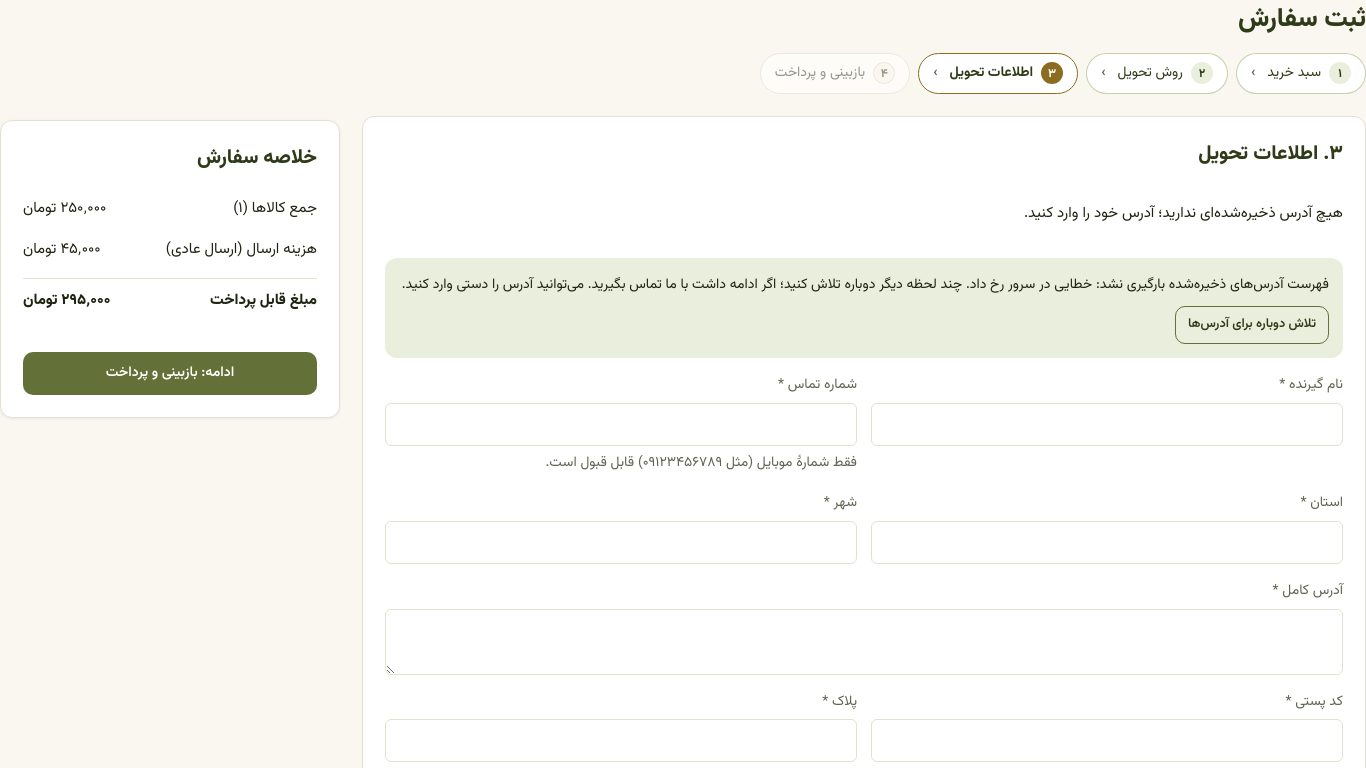
Test case: Place-order button & flow validation (Task 2) › address list failure offers a retry
Check: the heading "۳. اطلاعات تحویل" is shown, box [1198,138,1343,170]
What coordinates should you click on to do the following:
click the button "تلاش دوباره برای آدرس‌ها"
I would click on:
 (1252, 325)
Its box is [1175,306,1329,344].
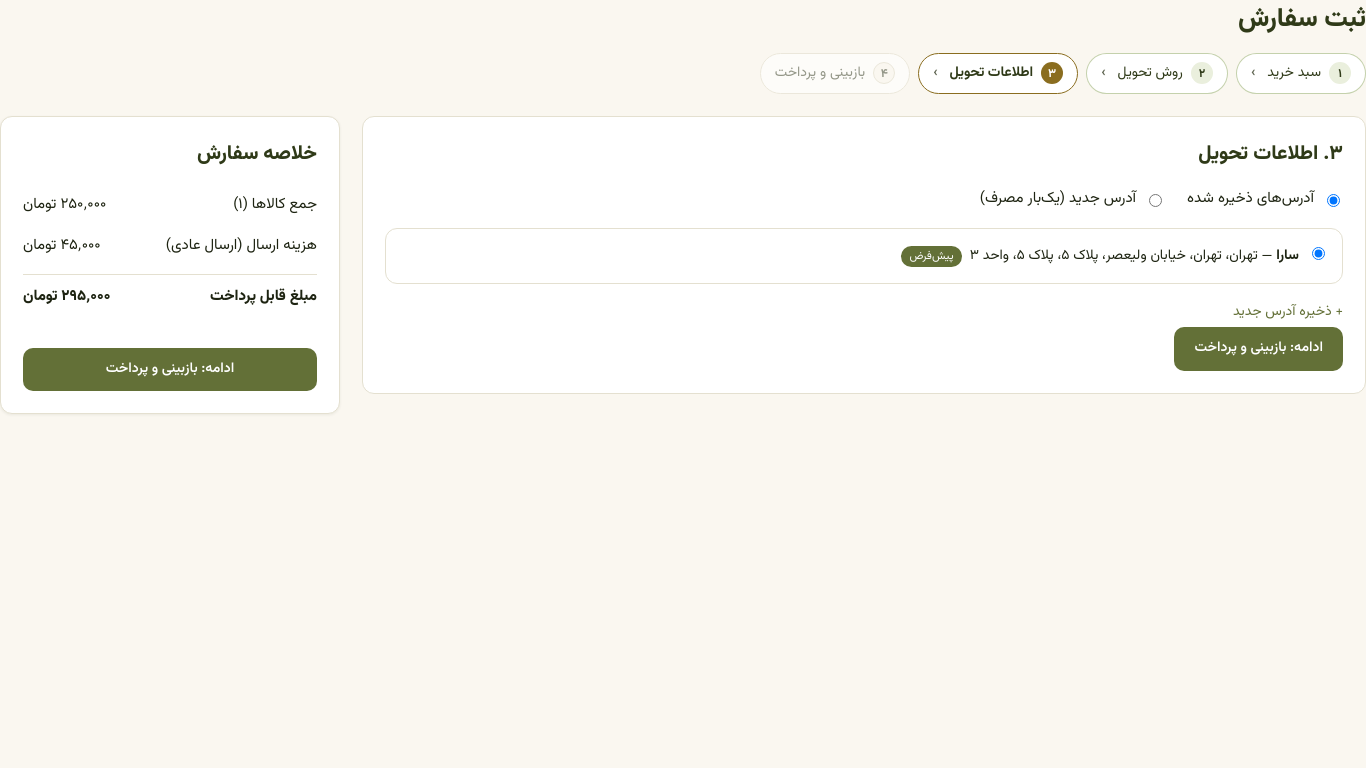
Check: the radio button labelled "سارا" is checked, box [1312,247,1325,260]
